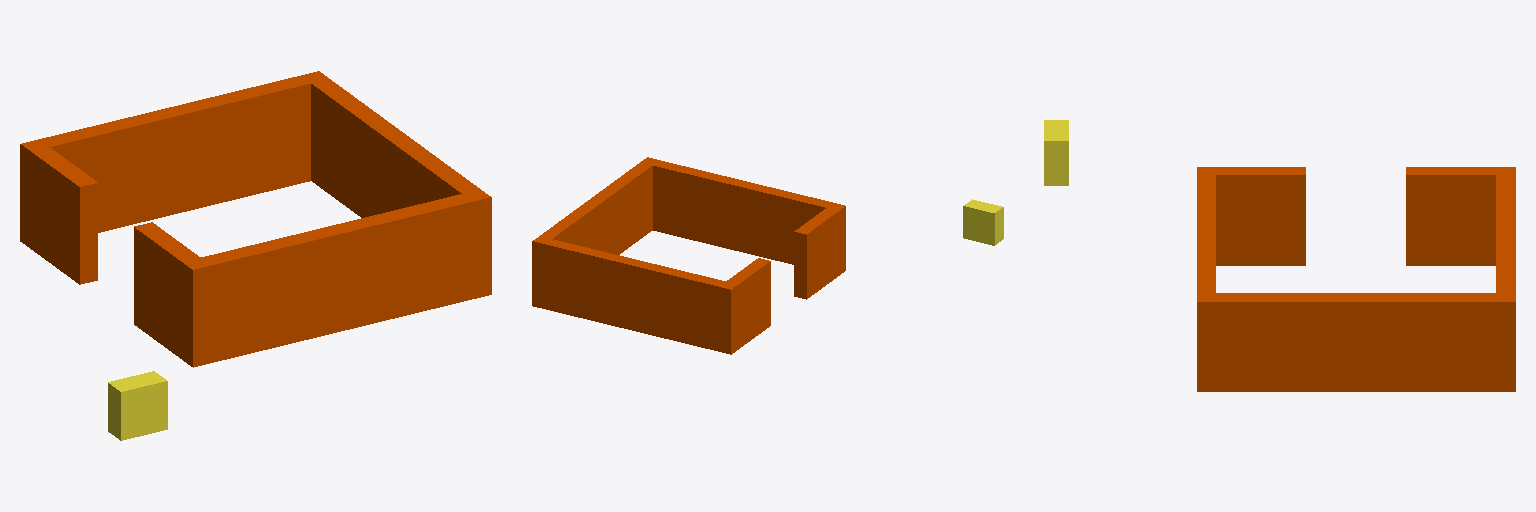
robot.urdf — unicycle:
<?xml version="1.0" ?>
<!-- =================================================================================== -->
<!-- |    This document was autogenerated by xacro from quadrotor_base.xacro           | -->
<!-- |    EDITING THIS FILE BY HAND IS NOT RECOMMENDED                                 | -->
<!-- =================================================================================== -->
<robot name="unicycle" xmlns:xacro="http://www.ros.org/wiki/xacro">

  <link name="link_x">
  </link>

  <link name="link_y">
  </link>

  <link name="link_theta">
  </link>


  <link name="base_link">
    <visual>
      <origin rpy="0 0 0" xyz="0 0 0"/>
      <geometry>
      <box size="0.5 0.25 0.5"/>
      </geometry>
    </visual>

    <collision>
      <origin rpy="0 0 0" xyz="0 0 0"/>
      <geometry>
      <box size="0.5 0.25 0.5"/>
      </geometry>
    </collision>
  </link>

  <link name="world">
  </link>

  <link name="obs1">


    <!-- - type: box -->
    <!--   center: [4.5, 3] -->
    <!--   size: [0.2, 3.2] -->
    <!-- - type: box -->
    <!--   center: [3, 1.5] -->
    <!--   size: [3.2, 0.2] -->
    <!-- - type: box -->
    <!--   center: [3, 4.5] -->
    <!--   size: [3.2, 0.2] -->
    <!-- - type: box -->
    <!--   center: [1.5, 4.05] -->
    <!--   size: [0.2, 1.1] -->
    <!-- - type: box -->
    <!--   center: [1.5, 1.95] -->
    <!--   size: [0.2, 1.1] -->


    <visual>
      <origin rpy="0 0 0"  xyz="4.5 3 0"/>
      <geometry>
        <box size="0.2 3.2 1.0"/>
      </geometry>
      </visual>

      <visual>
        <origin rpy="0 0 0"  xyz="3 1.5 0"/>
        <geometry>
          <box size="3.2 0.2 1.0"/>
        </geometry>
      </visual>

        <visual>
          <origin rpy="0 0 0"  xyz="3 4.5 0"/>
          <geometry>
            <box size="3.2 0.2 1.0"/>
          </geometry>
          </visual>

          <visual>
            <origin rpy="0 0 0"  xyz="1.5 4.05 0"/>
            <geometry>
              <box size="0.2 1.1 1.0"/>
            </geometry>
            </visual>

            <visual>
              <origin rpy="0 0 0"  xyz="1.5 1.95 0"/>
              <geometry>
                <box size="0.2 1.1 1.0"/>
              </geometry>
              </visual>


    <collision>
      <origin rpy="0 0 0"  xyz="4.5 3 0"/>
      <geometry>
        <box size="0.2 3.2 1.0"/>
      </geometry>
      </collision>

      <collision>
        <origin rpy="0 0 0"  xyz="3 1.5 0"/>
        <geometry>
          <box size="3.2 0.2 1.0"/>
        </geometry>
        </collision>

        <collision>
          <origin rpy="0 0 0"  xyz="3 4.5 0"/>
          <geometry>
            <box size="3.2 0.2 1.0"/>
          </geometry>
          </collision>

          <collision>
            <origin rpy="0 0 0"  xyz="1.5 4.05 0"/>
            <geometry>
              <box size="0.2 1.1 1.0"/>
            </geometry>
            </collision>

            <collision>
              <origin rpy="0 0 0"  xyz="1.5 1.95 0"/>
              <geometry>
                <box size="0.2 1.1 1.0"/>
              </geometry>
              </collision>









  </link>
  <!---->
  <!-- min: [0.0, 0.0] -->
  <!-- max: [3.0, 1.2] -->

  <!-- <joint name="myjoint" type="planar"> -->
  <!-- <parent link="world"/> -->
  <!-- <child link="base_link"/> -->
  <!-- </joint> -->
  <joint name="join_x" type="prismatic">
  <parent link="world"/>
  <child link="link_x"/>
  <axis xyz="1 0 0"/>
  <limit effort="1000.0" lower="0.0" upper="3.0" velocity="1.0"/>
  </joint>

  <joint name="join_y" type="prismatic">
    <parent link="link_x"/>
    <child link="link_y"/>
    <axis xyz="0 1 0"/>
  <limit effort="1000.0" lower="0.0" upper="1.2" velocity="1.0"/>
  </joint>

  <joint name="join_theta" type="revolute">
    <parent link="link_y"/>
    <child link="link_theta"/>
    <axis xyz="0 0 1"/>
    <limit effort="1000.0" lower="-3.14159265359" upper= "3.14159265359" velocity="1.0"/>
  </joint>

  <joint name="join_base" type="fixed">
    <parent link="link_theta"/>
    <child link="base_link"/>
  </joint>

  <joint name="obs1_j" type="fixed">
  <parent link="world"/>
  <child link="obs1"/>
  </joint>


</robot>

--- What the picture shows (computed from the rendered views, not written in the file) ---
Views: 3 orthographic renders of the robot side by side, from view 1: azimuth 30°, elevation 25°; view 2: azimuth 150°, elevation 25°; view 3: azimuth 270°, elevation 25°.
Robot: unicycle — 6 links, 5 joints (1 revolute, 2 prismatic, 2 fixed); root link world; default pose: every joint at zero.
Visible links, largest first — view 1: obs1, base_link; view 2: obs1, base_link; view 3: obs1, base_link.
Link boxes in pixels (x1,y1,x2,y2): obs1: [20, 71, 491, 367]; base_link: [108, 371, 167, 440]; obs1: [532, 157, 845, 354]; base_link: [963, 199, 1003, 245]; obs1: [1197, 167, 1515, 391]; base_link: [1044, 120, 1068, 185].
Size in the robot's own frame: 4.85 by 4.72 by 1 metres.
Geometry: primitives only (box / cylinder / sphere), no mesh files.